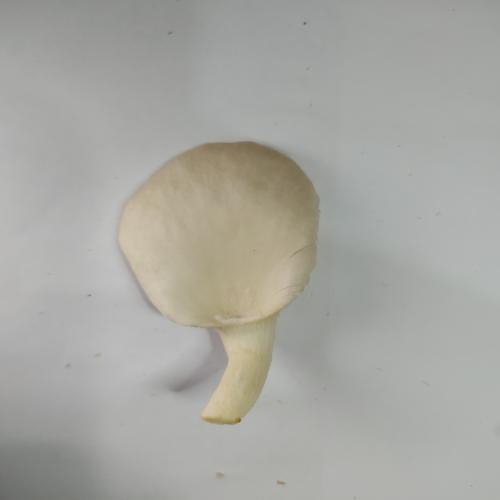Oyster Mushroom: (117, 140, 321, 425)
